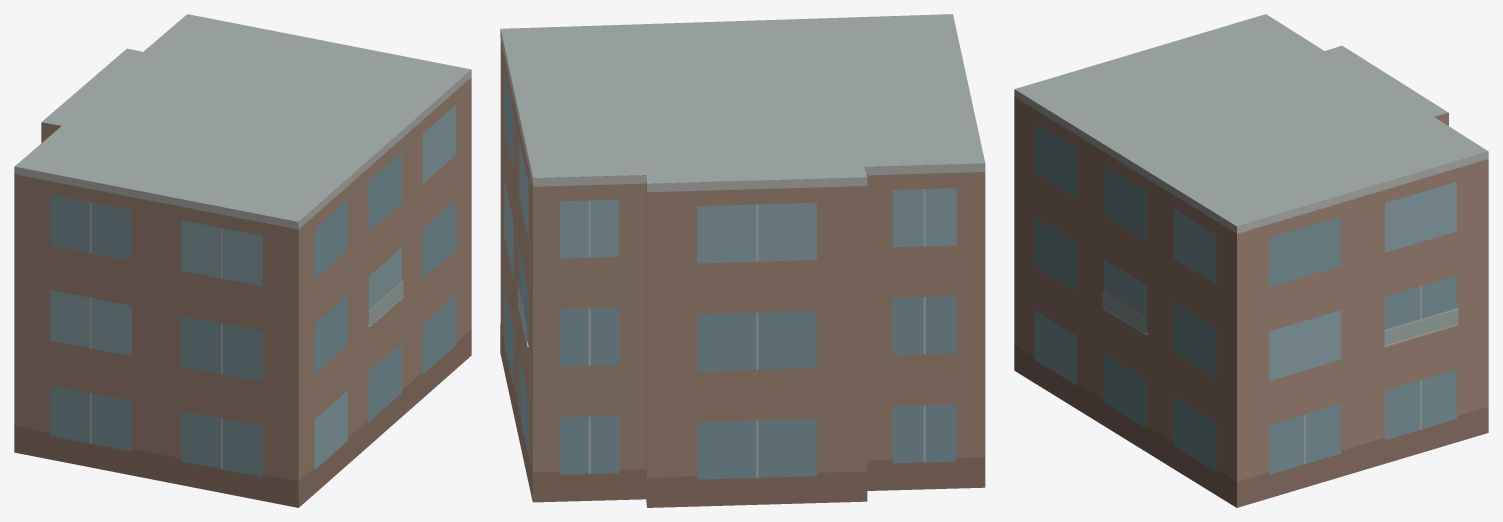
Rendered from survey-upis-33009083.glb.
3 renders of one model, left to right at view 1: azimuth 30°, elevation 25°; view 2: azimuth 150°, elevation 25°; view 3: azimuth 270°, elevation 25°, orthographic. The views are drawn at different scales.
Visible parts, largest first — view 1: survey-upis-33009083.tmp; view 2: survey-upis-33009083.tmp; view 3: survey-upis-33009083.tmp.
Part boxes in pixels (x1,y1,x2,y2): survey-upis-33009083.tmp: [14, 14, 471, 507]; survey-upis-33009083.tmp: [500, 14, 985, 507]; survey-upis-33009083.tmp: [1014, 14, 1488, 507].
Bounding box in the file's own units: 14.82 × 9.15 × 13.98.
